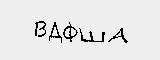А: (105, 25, 132, 46)
В: (32, 19, 50, 41)
Д: (47, 17, 62, 45)
Ф: (63, 22, 77, 45)
Ш: (77, 25, 105, 46)
